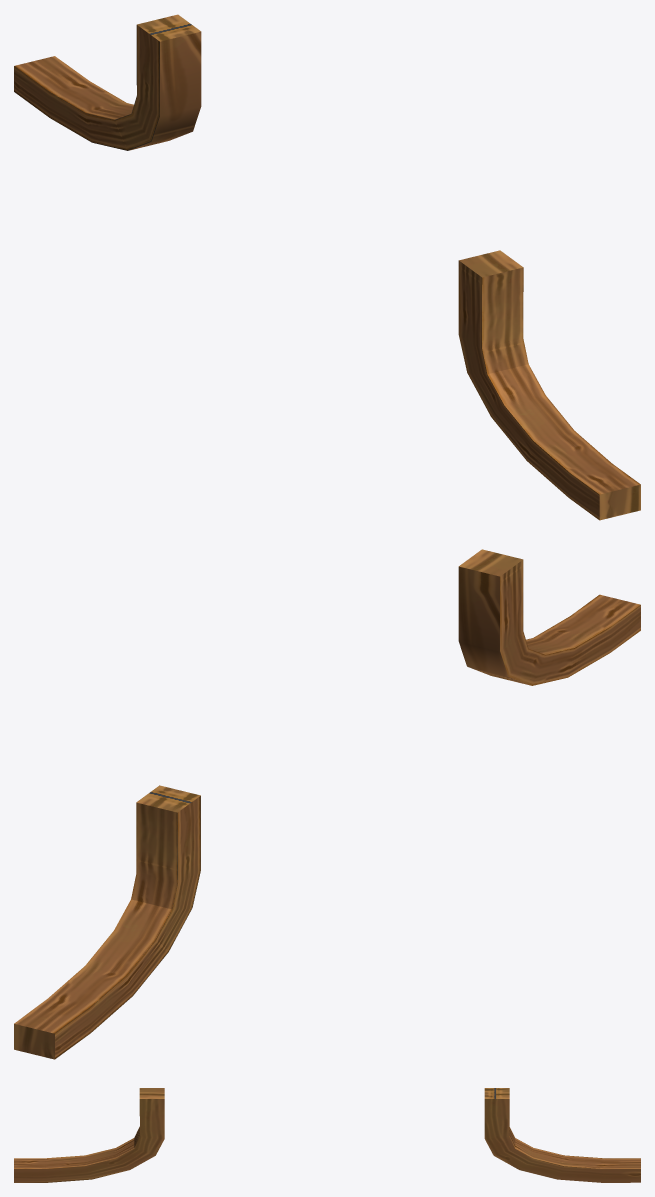
3 views of the same model, one above another, from view 1: azimuth 30°, elevation 25°; view 2: azimuth 150°, elevation 25°; view 3: azimuth 270°, elevation 25° (orthographic). The views are drawn at different scales.
Parts seen in each view (by area): view 1: Cube.1729; view 2: Cube.1729; view 3: Cube.1729.
Boxes of the visible parts, <box> form: Cube.1729: <box>14,14,640,520</box>; Cube.1729: <box>14,549,640,1059</box>; Cube.1729: <box>14,1088,640,1182</box>.
Size of the model in its own units: 37.33 by 135 by 915.
Materials: 1 (1 with a texture image).
